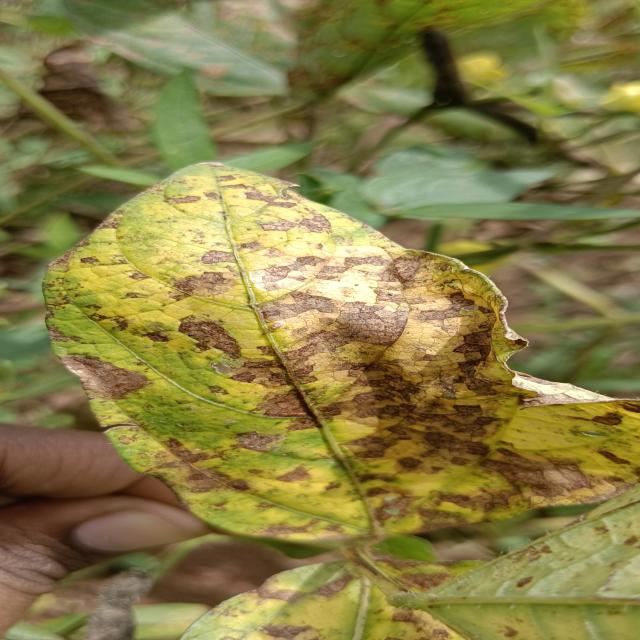Black gram_leaf spot: (35, 158, 640, 547), (189, 494, 640, 640)
